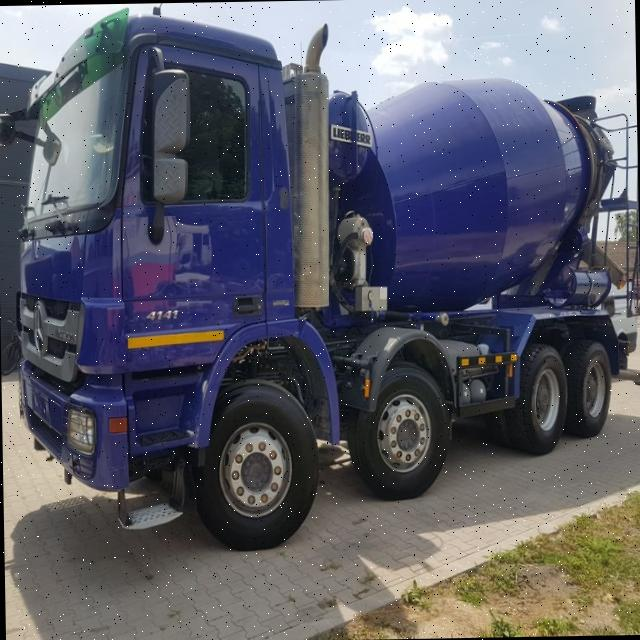Mixer Truck: (10, 0, 640, 555)
